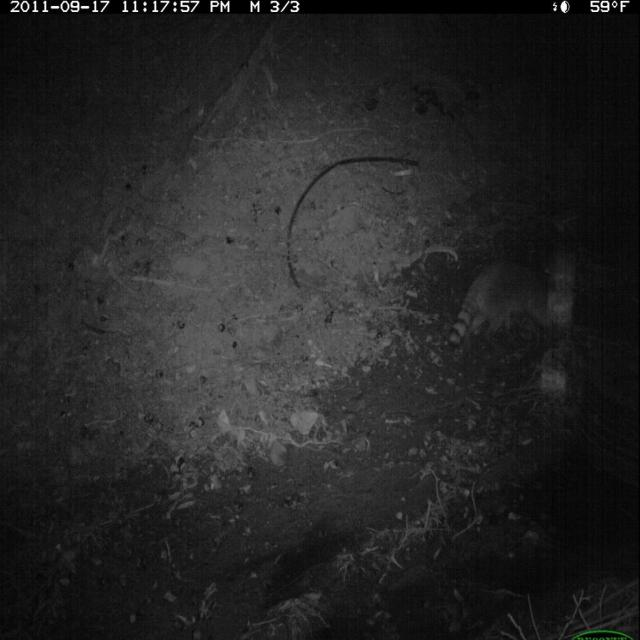raccoon: (441, 243, 577, 361)
